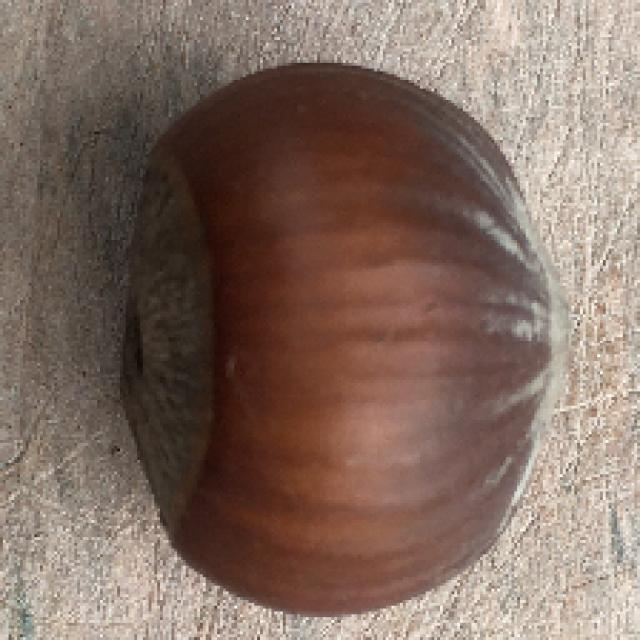damagedHazelnut: (110, 62, 558, 610)
